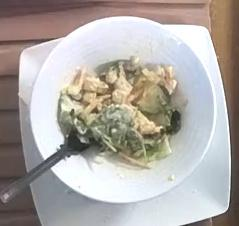salad: (58, 56, 187, 169)
